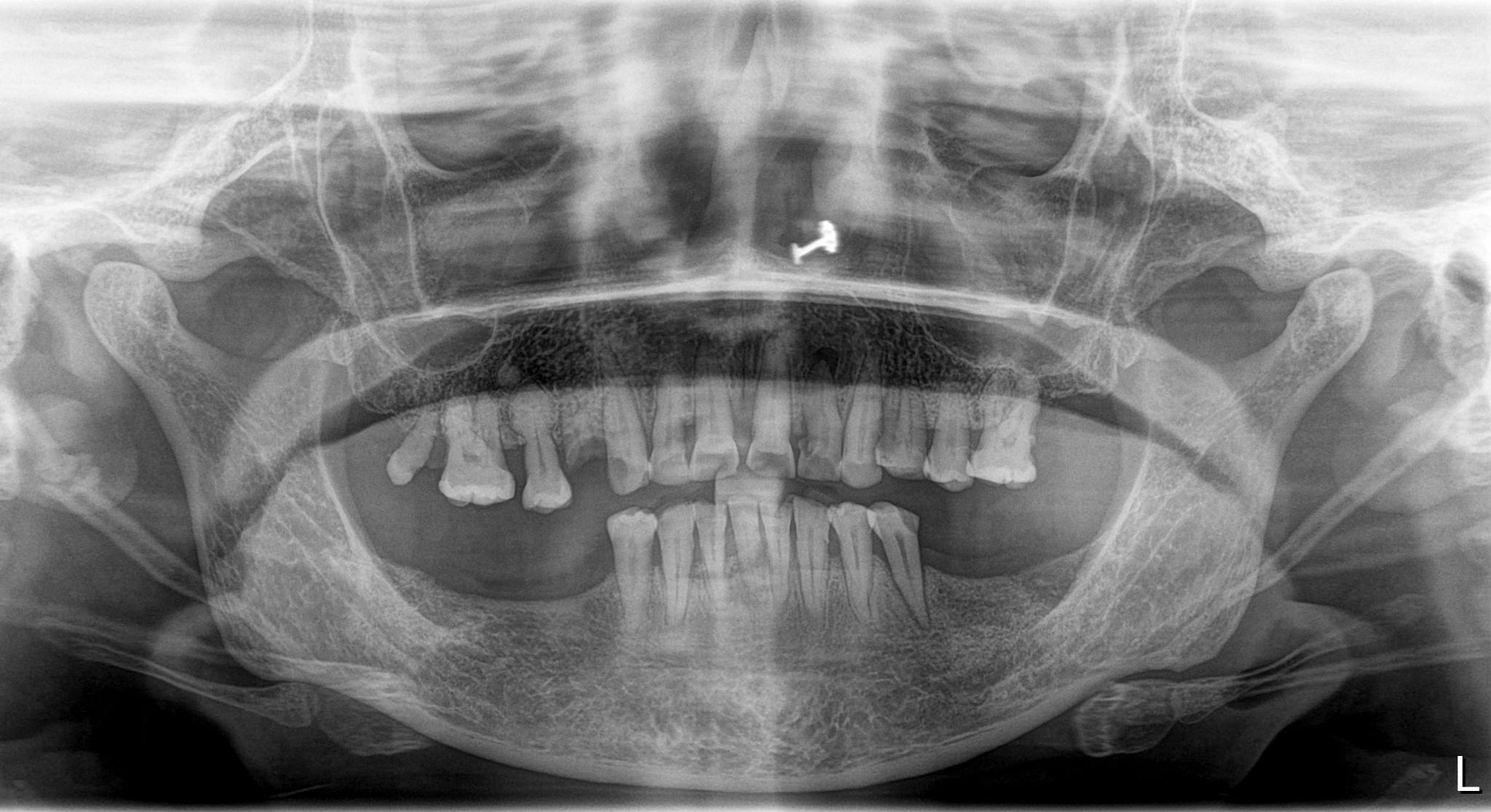Dental Caries: (562, 433, 614, 478)
Missing Tooth: (440, 535, 503, 653), (322, 358, 371, 497), (386, 537, 438, 656), (1034, 531, 1090, 628), (976, 529, 1029, 631), (1076, 377, 1116, 496), (559, 544, 604, 647), (928, 529, 970, 629), (515, 538, 548, 656), (1043, 387, 1075, 491)
Retained Root: (380, 406, 442, 490)
